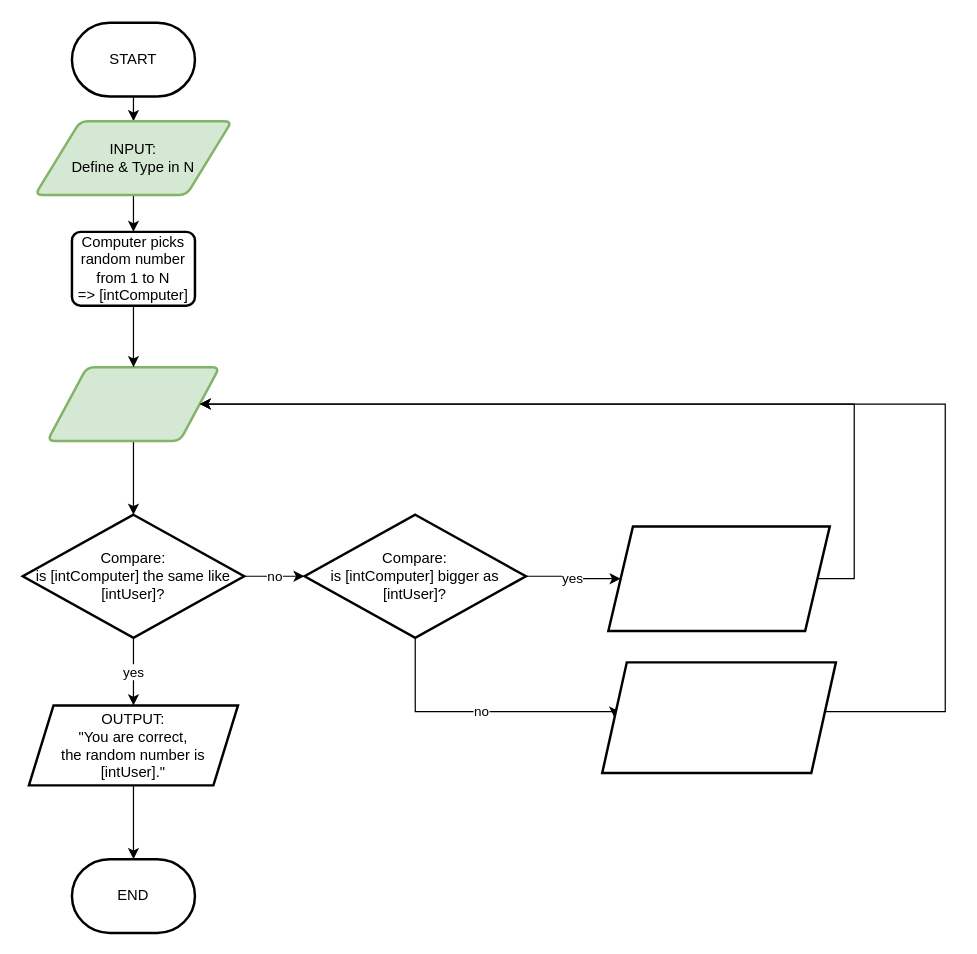
This 977x954 diagram has some shape labels left out. Each missing label, with the centre of its shape:
INPUT: Random integer from 1 to N => [intUser]: [133,403]
OUTPUT: "My number is higher than [intUser], guess again higher!": [718,578]
OUTPUT: "My number is lower than [intUser], guess again lower!": [718,717]
